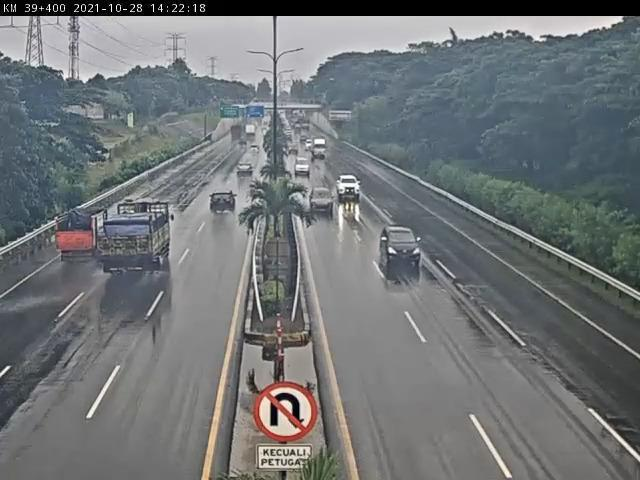car: (380, 226, 423, 265), (310, 189, 337, 215), (337, 174, 362, 202), (209, 191, 237, 213), (295, 157, 312, 177), (237, 161, 254, 177)
truck: (98, 203, 173, 276), (56, 209, 110, 261)
